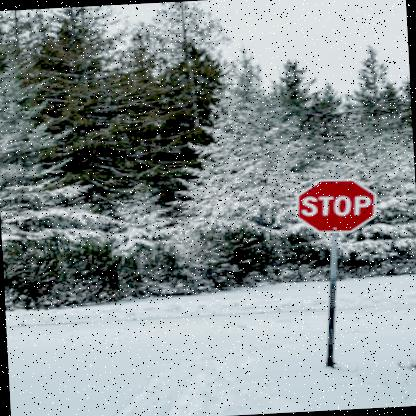stop: (291, 178, 376, 234)
